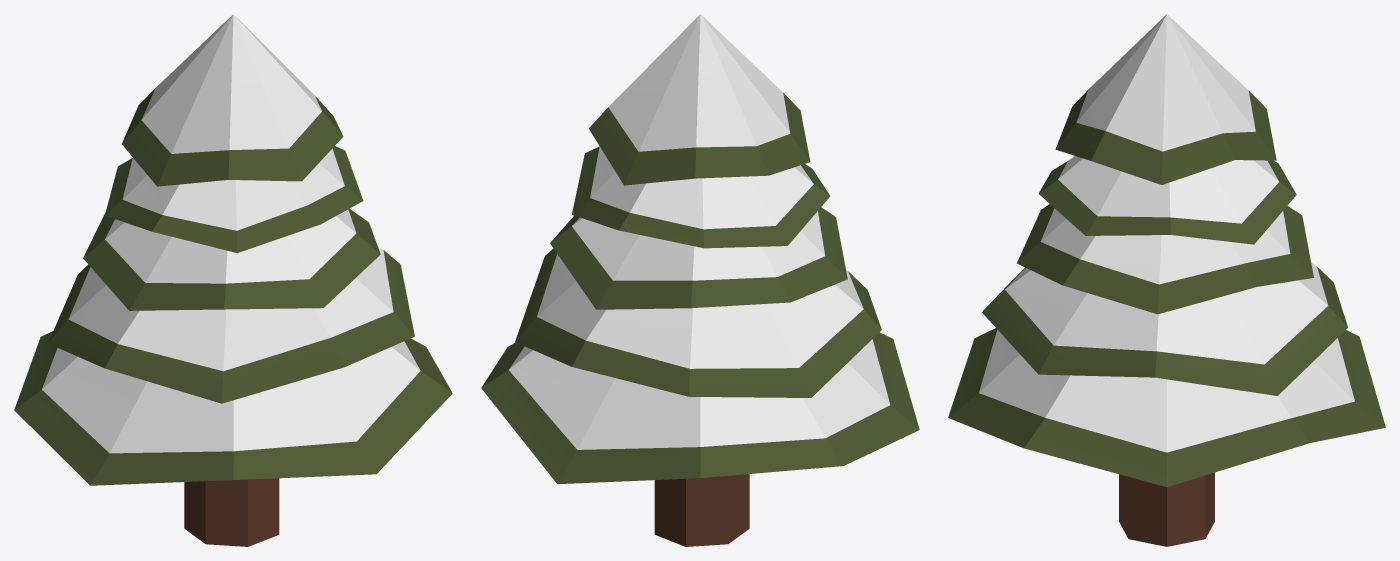
File: tree_02.fbx
The picture shows the model from 3 angles, left to right: view 1: azimuth 30°, elevation 25°; view 2: azimuth 150°, elevation 25°; view 3: azimuth 270°, elevation 25°; orthographic projection.
Parts seen in each view (by area): view 1: tree_5; view 2: tree_5; view 3: tree_5.
Part boxes in pixels (x1=…): tree_5: x1=14, y1=14, x2=452, y2=546; tree_5: x1=481, y1=14, x2=919, y2=546; tree_5: x1=948, y1=14, x2=1385, y2=546.
Bounding box in the file's own units: 5.25 × 6.87 × 5.33.
